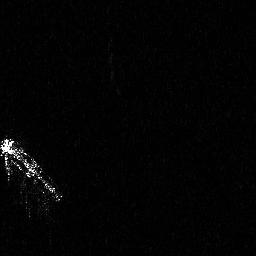ship: (1, 134, 63, 220)
